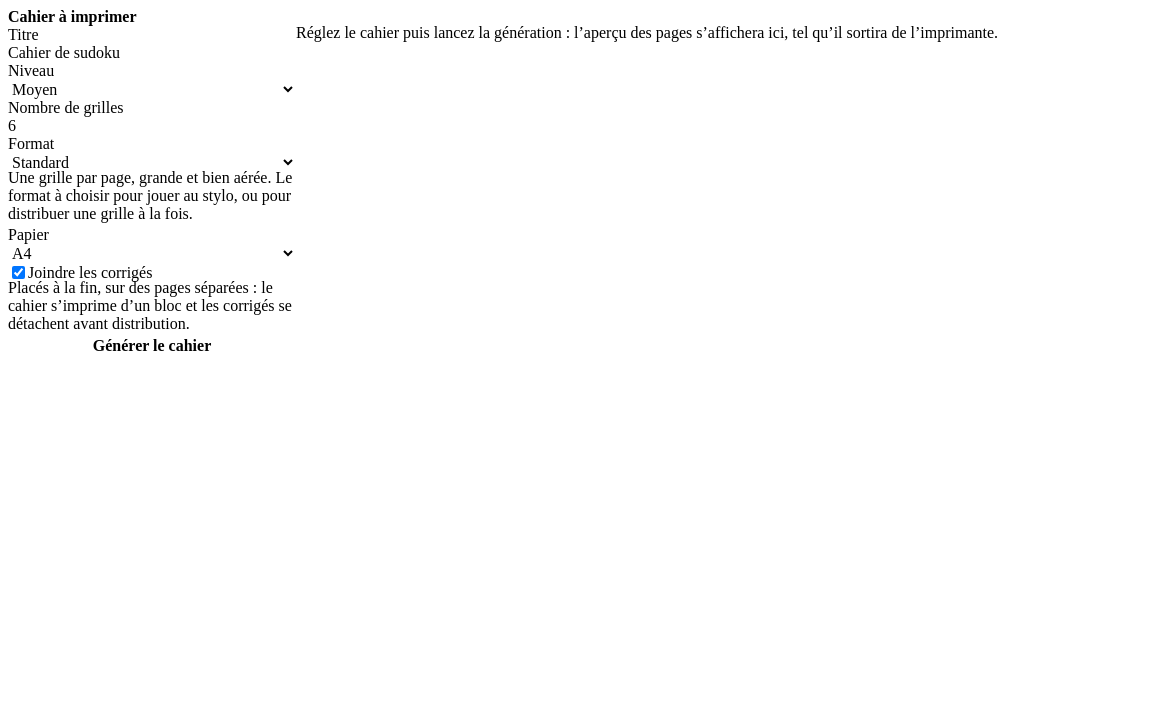
Test: le studio du cahier de sudoku › produit le cahier demandé, et dit de quel niveau il est
Select "Facile" in the dropdown labelled "Niveau". click: (152, 90)
box: [8, 80, 296, 99]
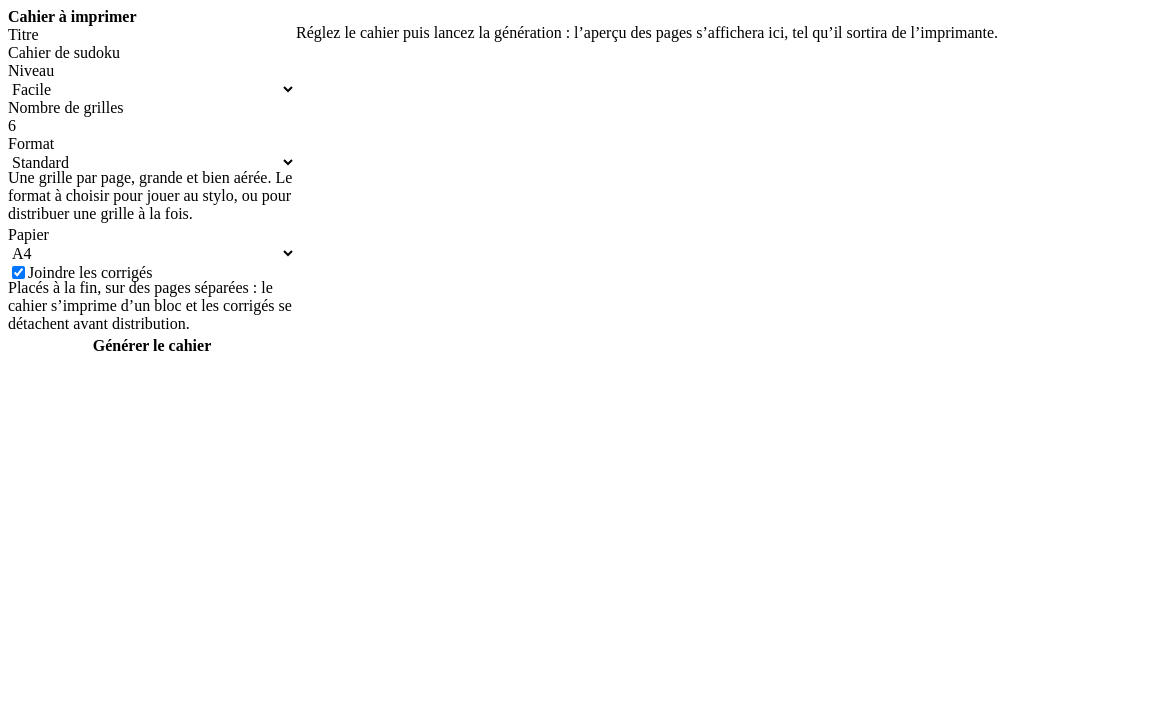
Replace the text in the number field labelled "Nombre de grilles" with "3". click: (152, 126)
box: [8, 117, 296, 135]
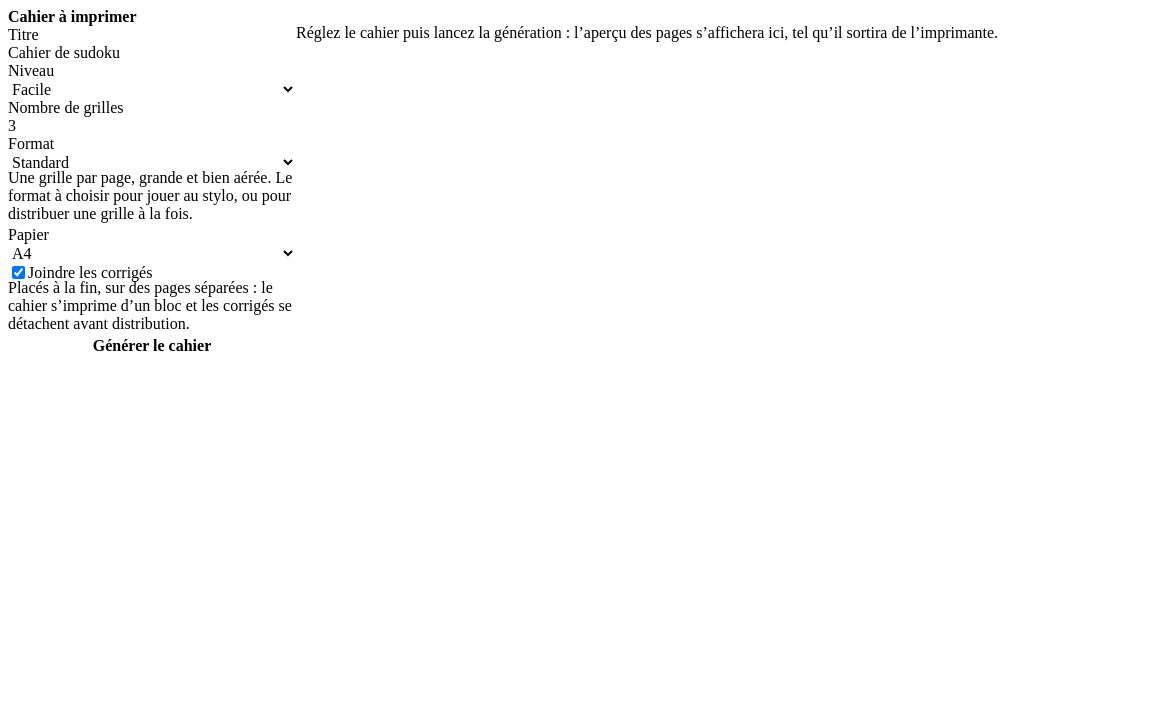
Click the button "Générer le cahier". click: (152, 346)
box: [8, 336, 296, 356]
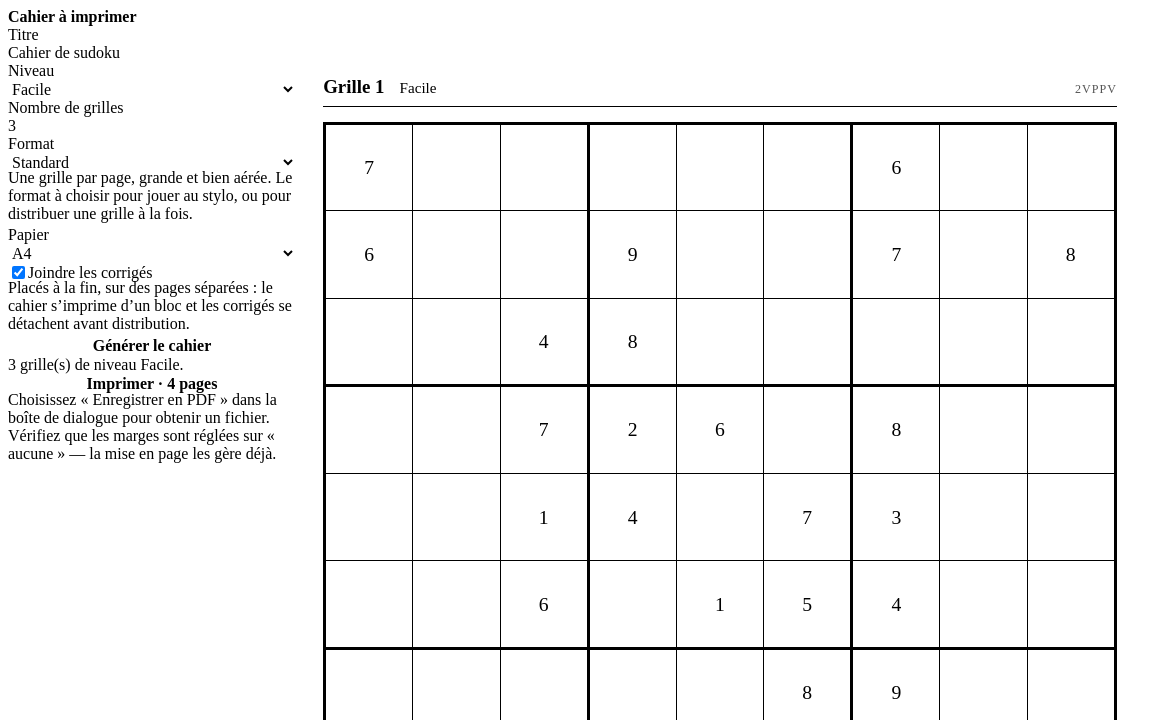
Expected: the message with class "notice" reads "3 grille(s) de niveau Facile.", [8, 356, 184, 373]
